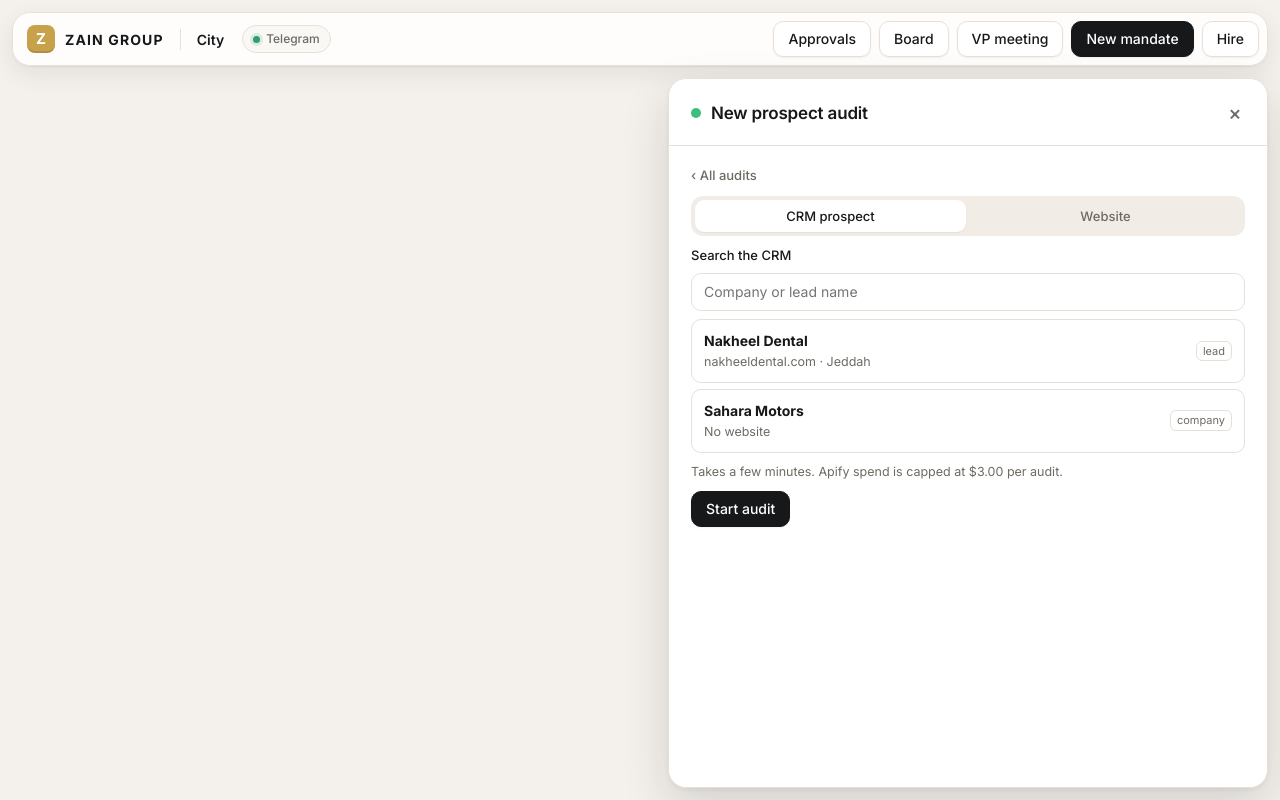
it: New audit form › says when nothing matches, and requires a pick
Type "zzz" into the search field labelled "Search the CRM" at (968, 292), box [691,273,1245,311]
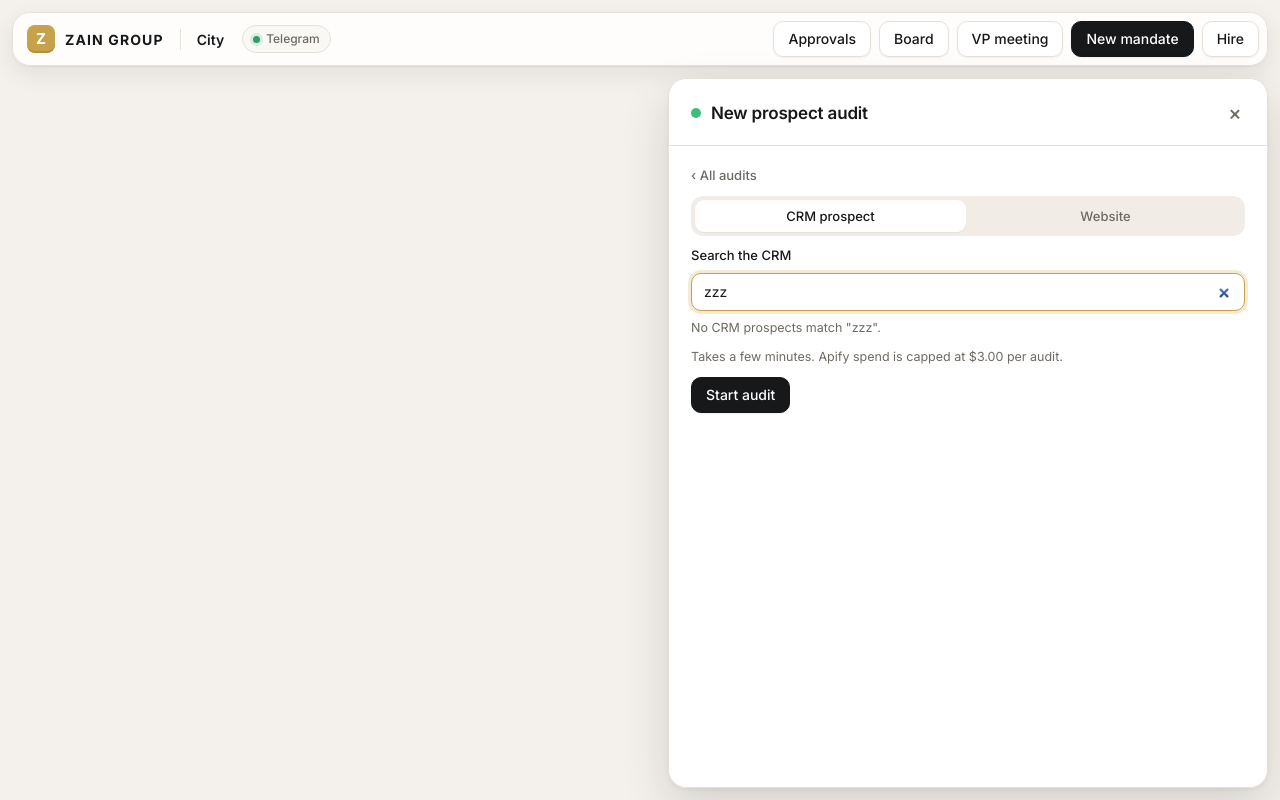
Expected: the text "No CRM prospects match \"zzz\"." is shown, [691,320,881,335]
Click the button "Start audit" at (741, 394), box [691,376,790,412]
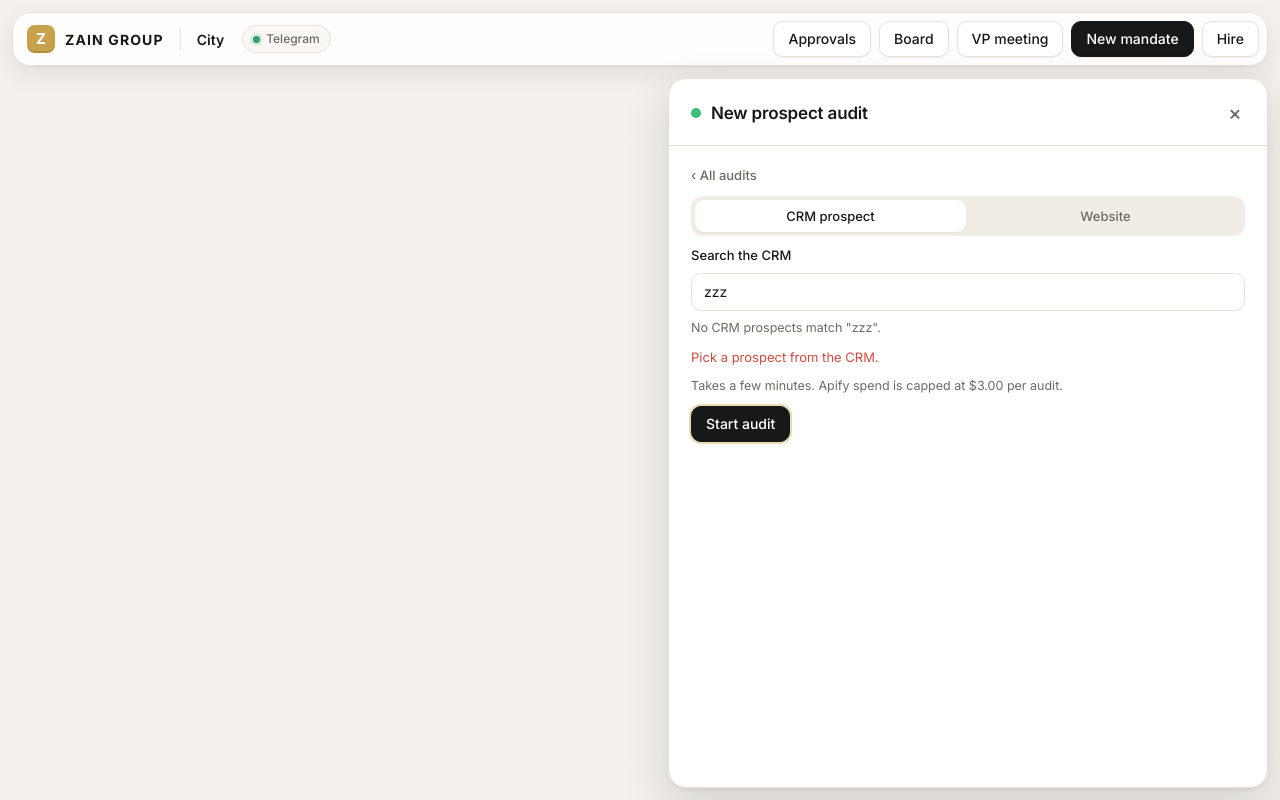
Expected: the message reads "Pick a prospect from the CRM.", [691,349,879,365]
